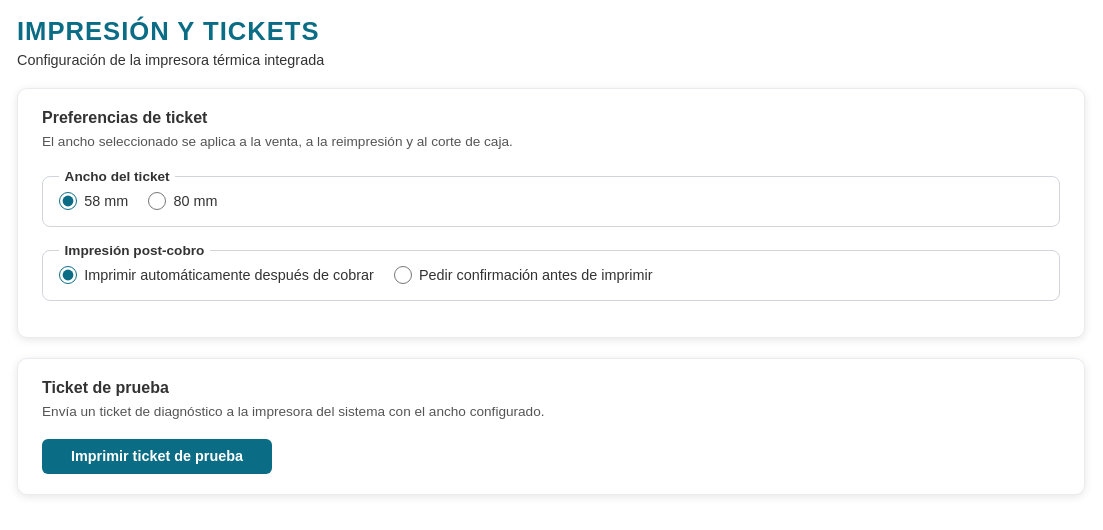
Test: SettingsPrinters › persiste el ancho elegido y lo anuncia con role=status
This screenshot has width=1103, height=530.
What coordinates should you click on to do the following:
click the radio button labelled "80 mm"
I would click on:
 (157, 201)
Its box is [148,192,166,210].
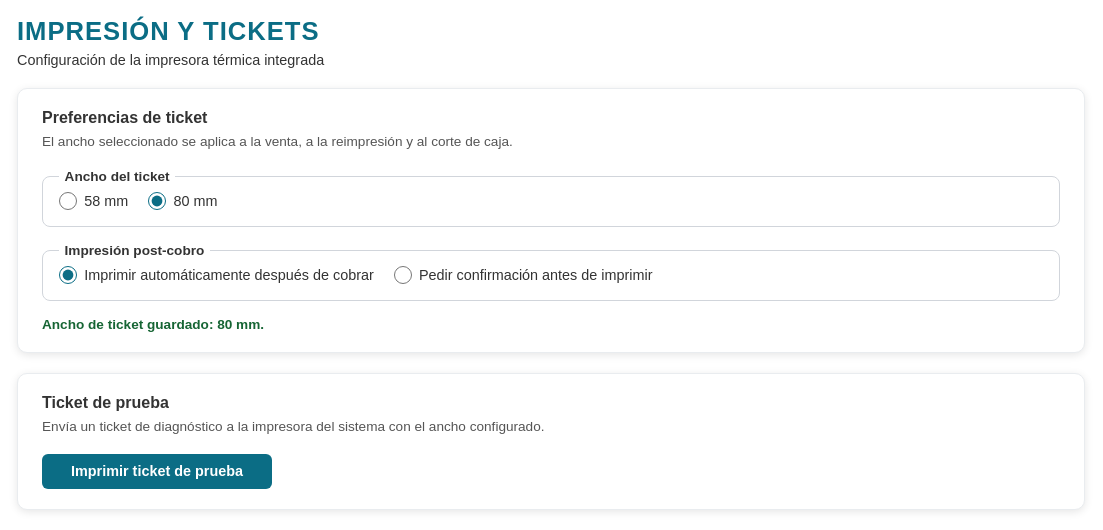
Now the message shows "80 mm", box [42,317,264,332]
